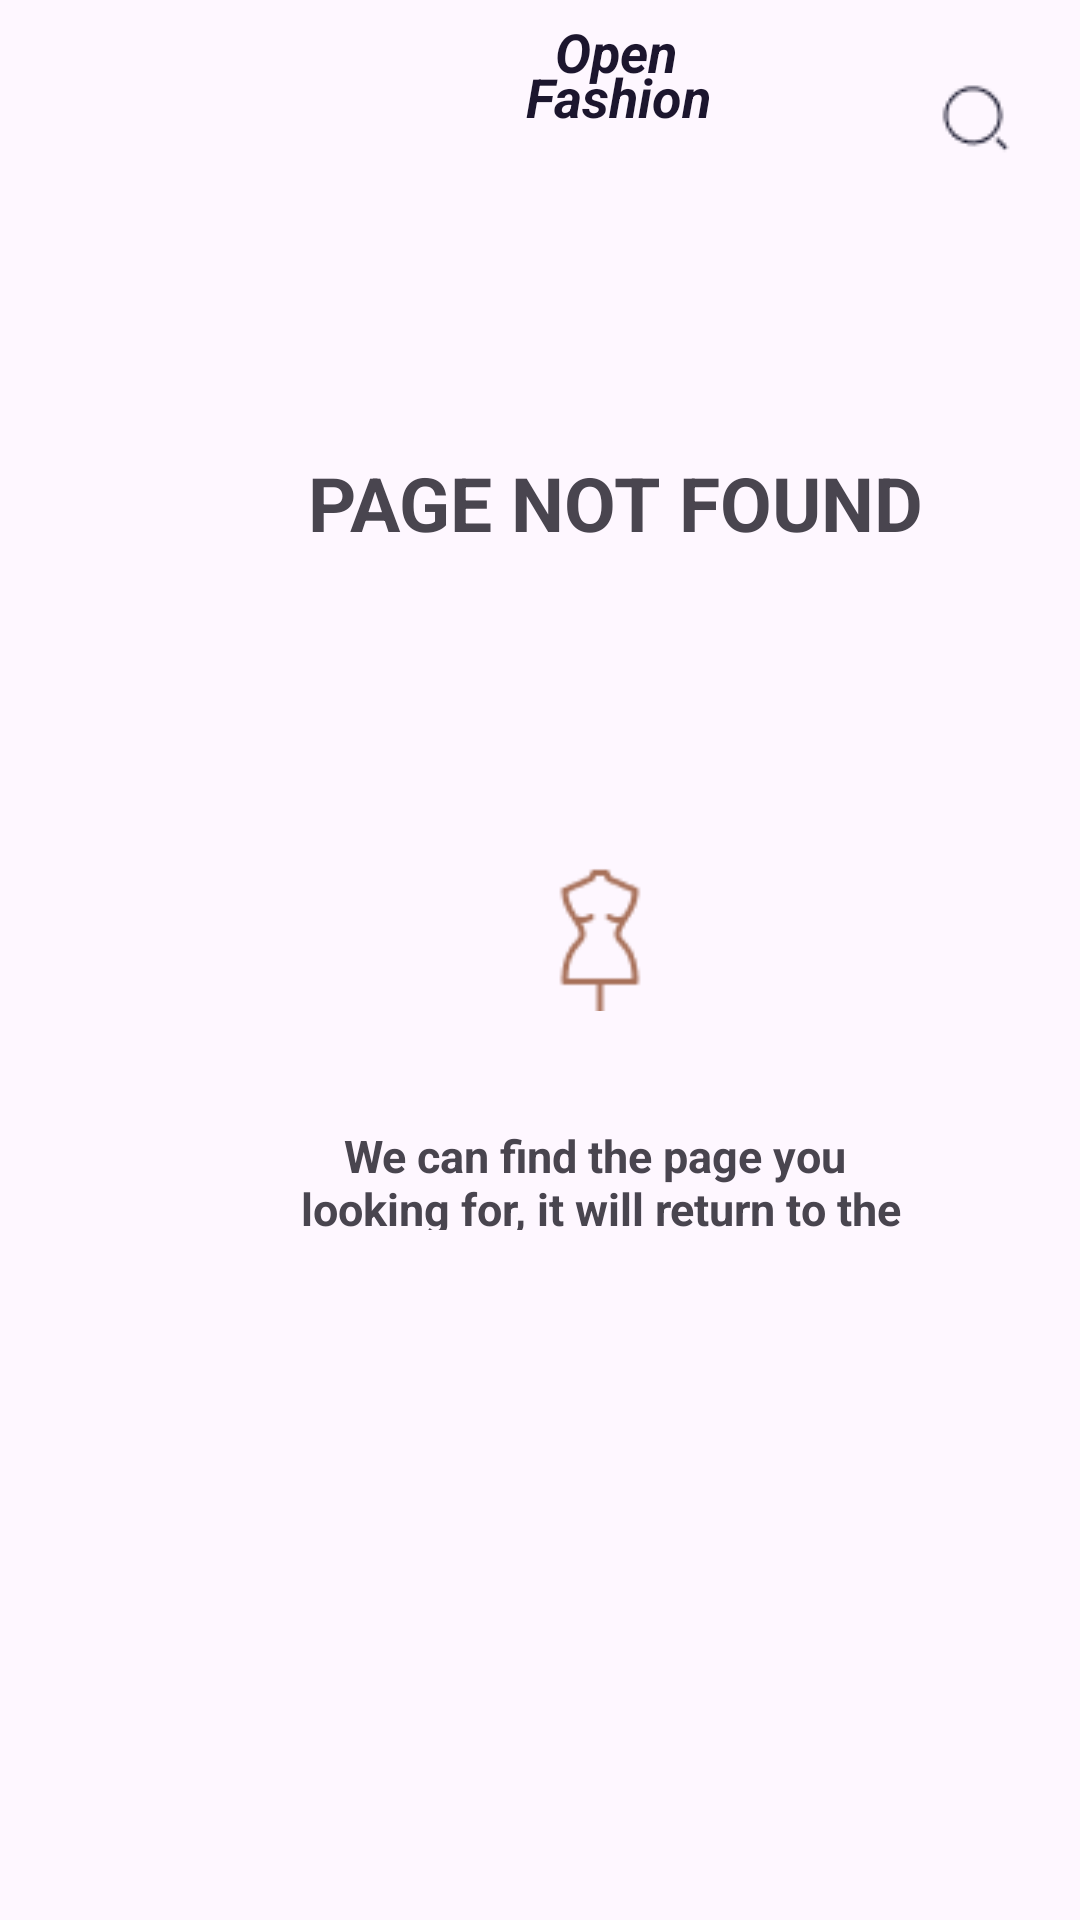

Named icons in this screenshot (1080w x 1920h) and their bounding boxes, [x1,y1,x2,y2]:
search: [942,85,1009,150]
